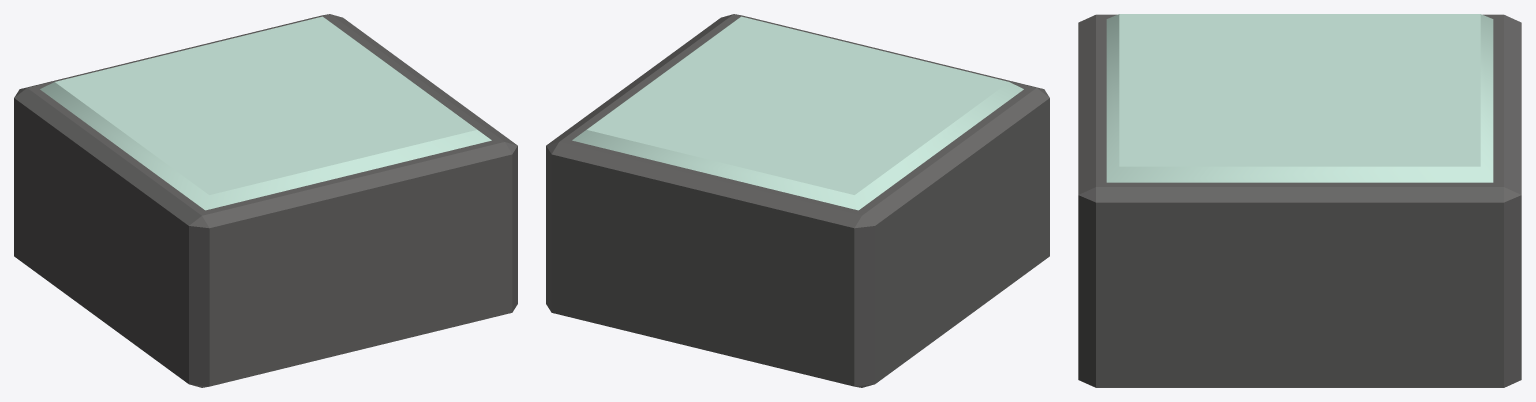
Rendered from winter-cube-medium.glb.
3 renders of one model, left to right at view 1: azimuth 30°, elevation 25°; view 2: azimuth 150°, elevation 25°; view 3: azimuth 270°, elevation 25°, orthographic. The views are drawn at different scales.
Visible parts, largest first — view 1: WinterCubeMedium; view 2: WinterCubeMedium; view 3: WinterCubeMedium.
Boxes of the visible parts, x1,y1,x2,y2 form: WinterCubeMedium: (14, 14, 517, 387); WinterCubeMedium: (546, 14, 1049, 387); WinterCubeMedium: (1078, 14, 1521, 387).
Size of the model in its own units: 200 by 105 by 200.
Materials: 1 (1 with a texture image).
